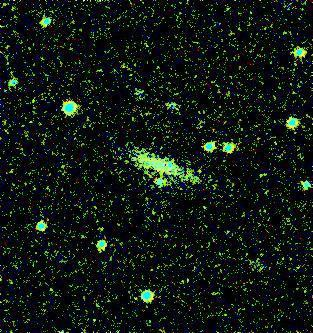star: (155, 151, 185, 181)
